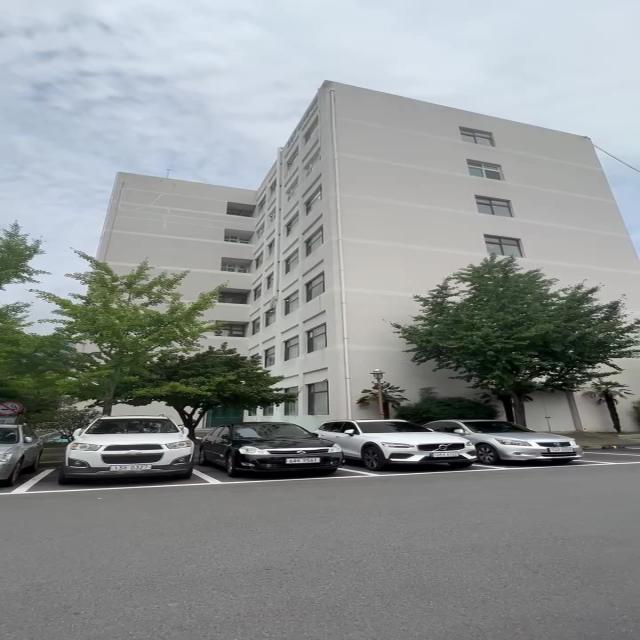building: (66, 68, 612, 267)
